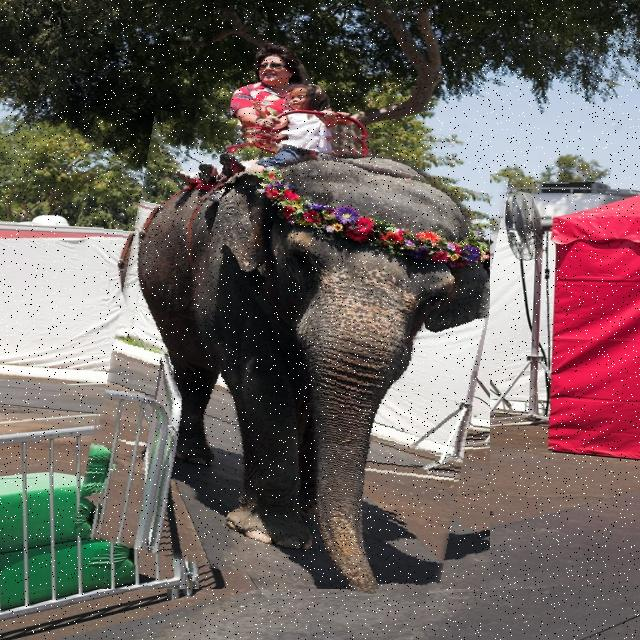elephant: (92, 124, 490, 589)
